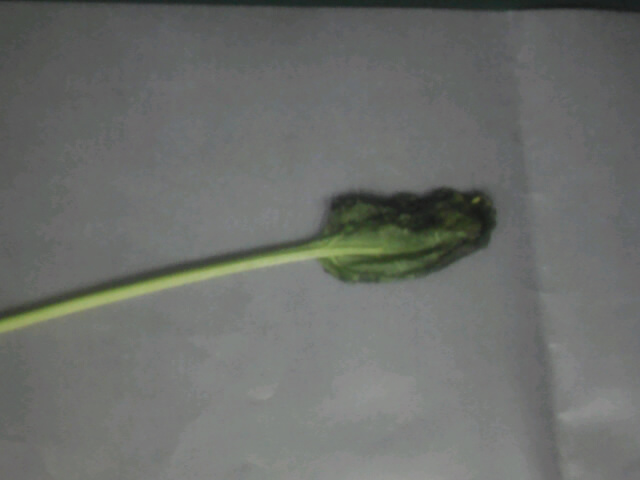yellow: (139, 176, 501, 301)
